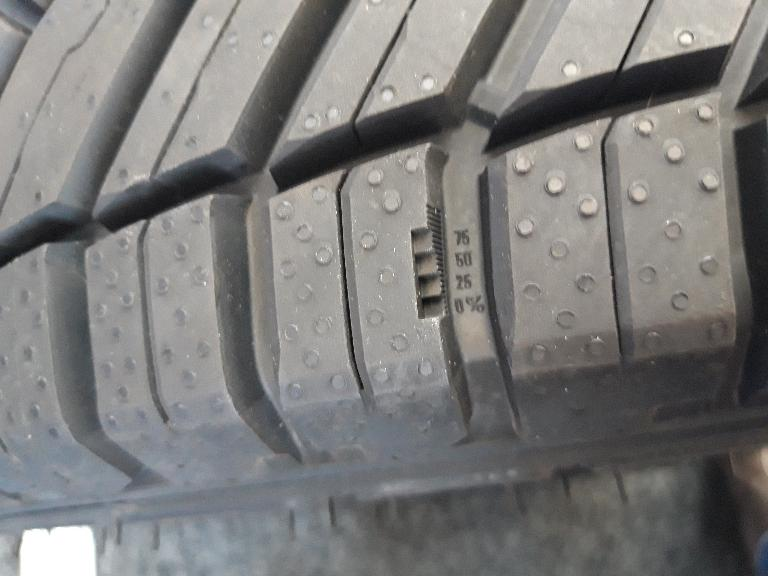temoin:100: (406, 200, 454, 324)
